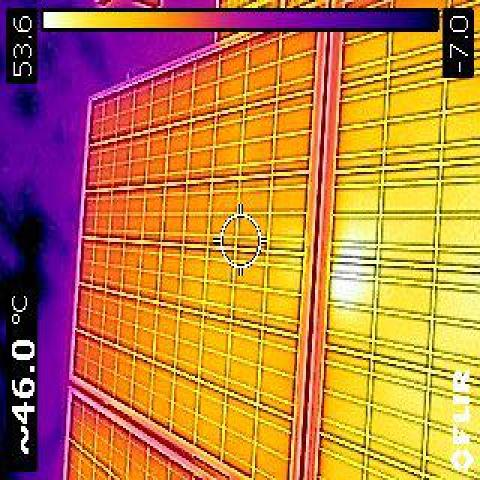fault: (333, 239, 361, 295)
